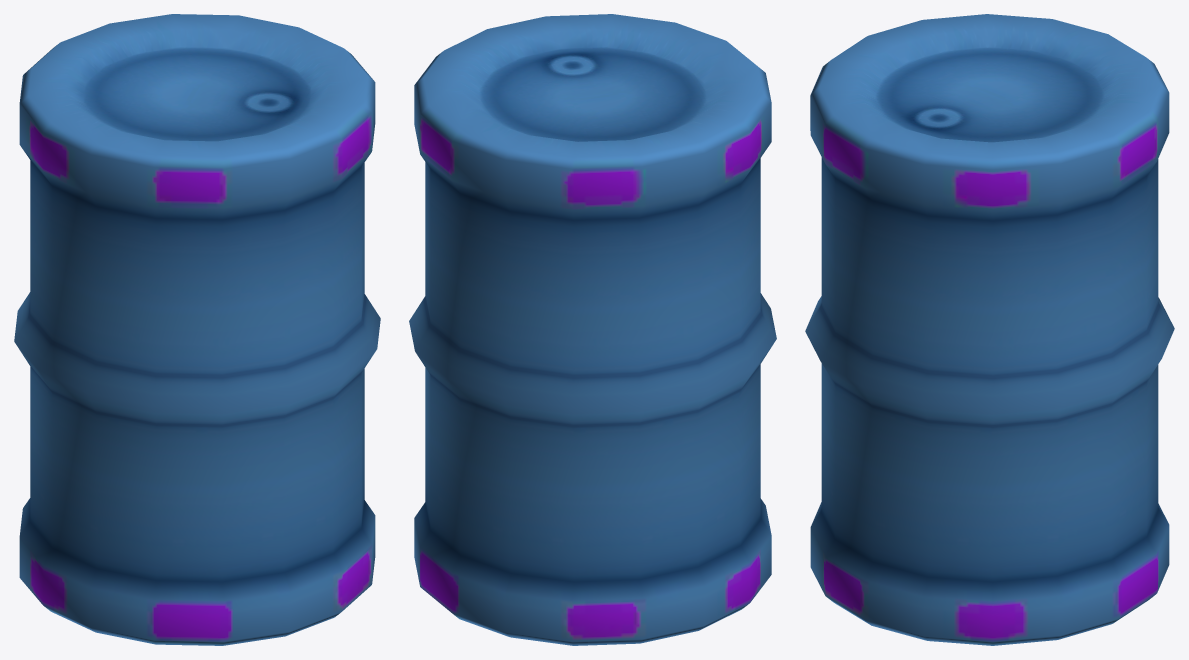
File: obj__barrel_ugc_a_000_1x1.glb
3 renders of one model, left to right at view 1: azimuth 30°, elevation 25°; view 2: azimuth 150°, elevation 25°; view 3: azimuth 270°, elevation 25°, orthographic.
Visible parts, largest first — view 1: MSH_CraneBarrel01_A_000_1x1_4; view 2: MSH_CraneBarrel01_A_000_1x1_4; view 3: MSH_CraneBarrel01_A_000_1x1_4.
Boxes of the visible parts, bbox=[...] form: MSH_CraneBarrel01_A_000_1x1_4: bbox=[14, 14, 380, 645]; MSH_CraneBarrel01_A_000_1x1_4: bbox=[409, 14, 776, 645]; MSH_CraneBarrel01_A_000_1x1_4: bbox=[805, 14, 1174, 645].
Bounding box in the file's own units: 0.5433 × 0.7915 × 0.5433.
1 material, 1 textured.
